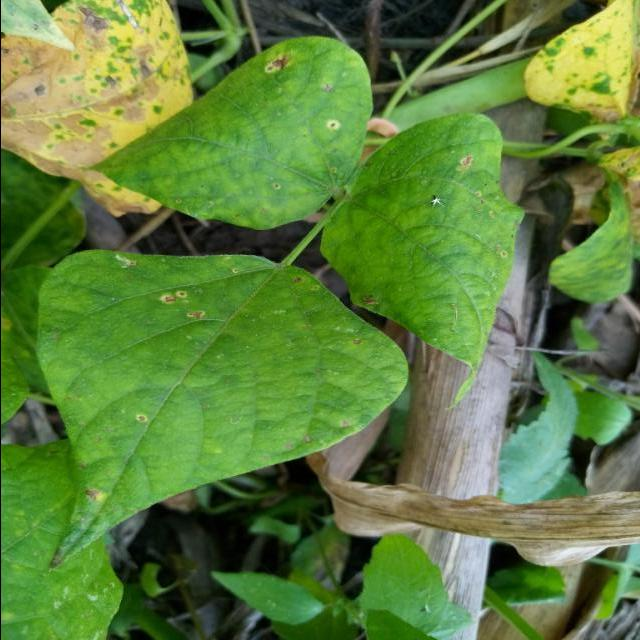hawar: (87, 0, 480, 634)
